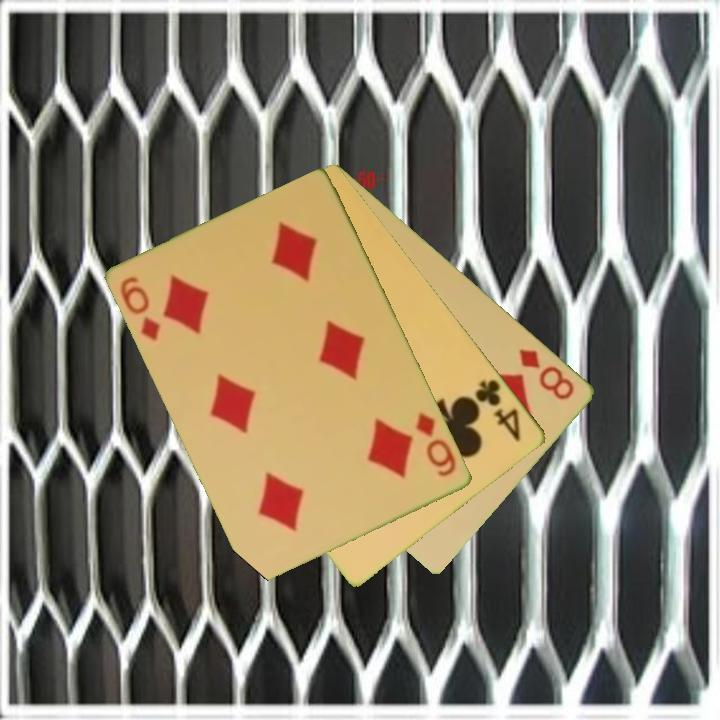4c: (472, 375, 524, 445)
6d: (413, 409, 460, 480), (117, 273, 164, 344)
8d: (516, 345, 578, 403)
